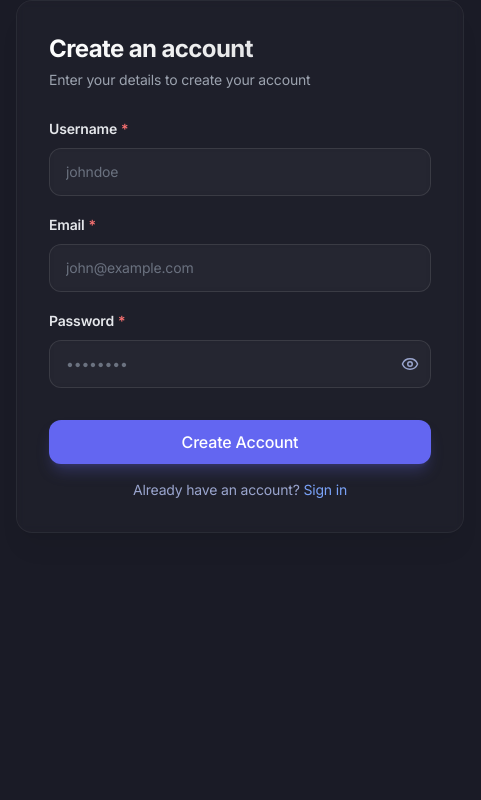
AuthForm › Form Submission › validates password complexity in registration mode
# Fill in required fields
Type "testuser" into the field labelled "Username*".
click(240, 172); type("testuser")  # box left=49, top=148, right=431, bottom=196
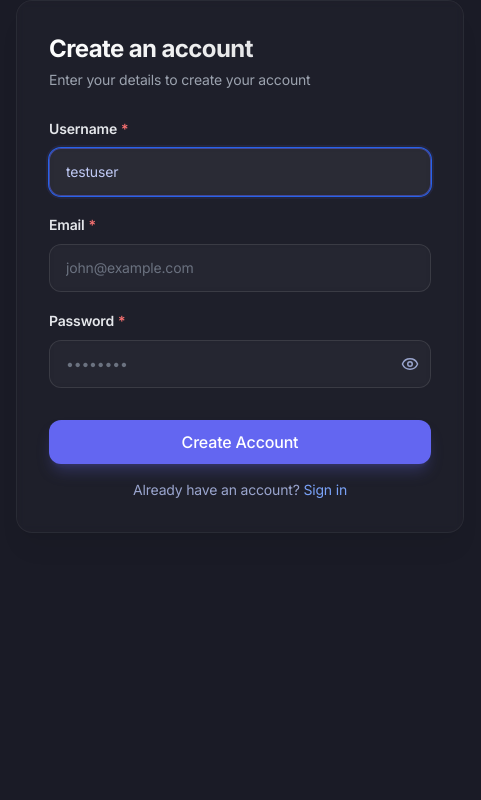
Type "test@example.com" into the field labelled "Email*".
click(240, 268); type("test@example.com")  # box left=49, top=244, right=431, bottom=292
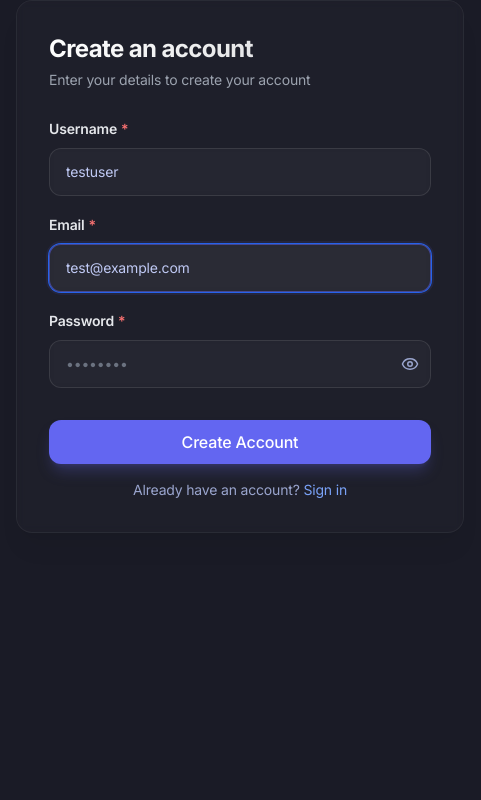
Type "weak" into the password field labelled "Password*".
click(240, 364); type("weak")  # box left=49, top=340, right=431, bottom=388
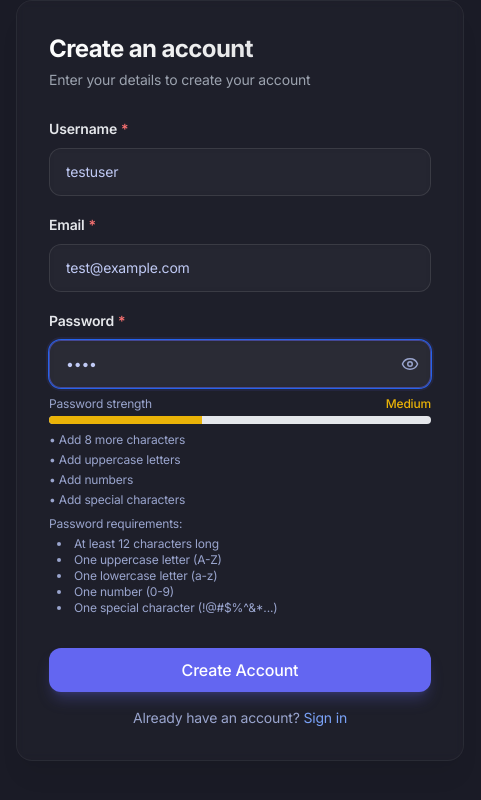
# Submit form
Click the button "Create Account".
click(240, 670)  # box left=49, top=648, right=431, bottom=692
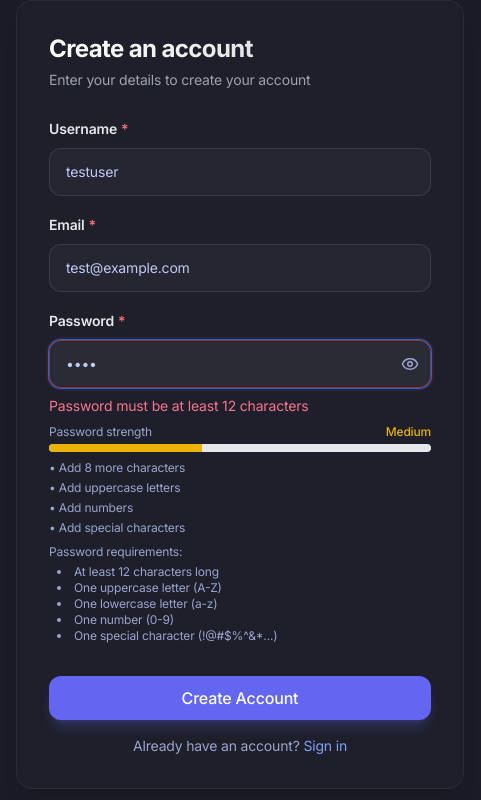
Result: the text "Password must be at least 12 characters" is shown at left=49, top=397, right=308, bottom=414
